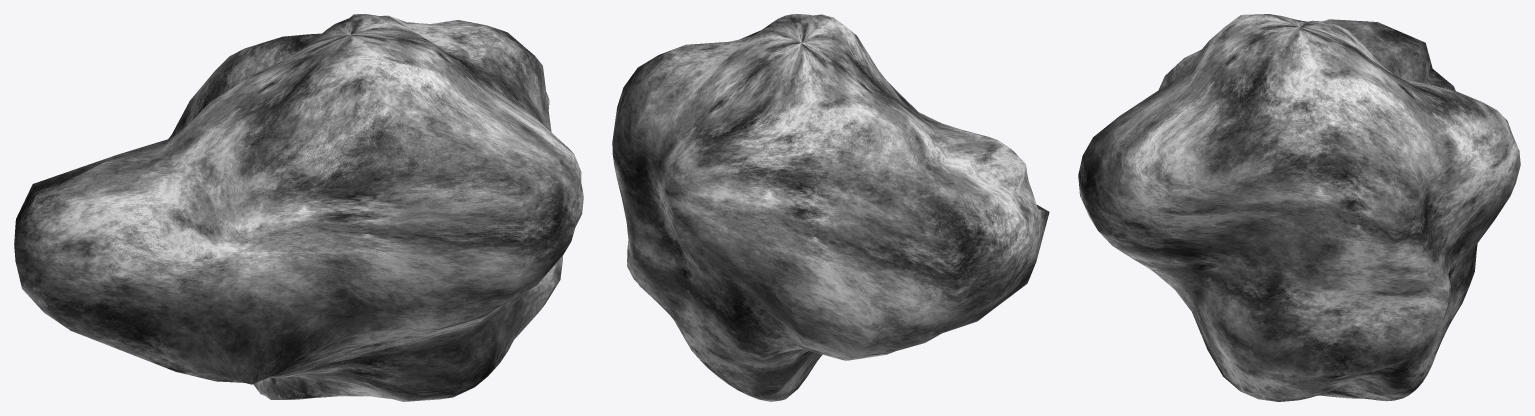
The model's file is Asteroid01d.fbx.
3 views of the same model, side by side, from view 1: azimuth 30°, elevation 25°; view 2: azimuth 150°, elevation 25°; view 3: azimuth 270°, elevation 25° (orthographic). The views are drawn at different scales.
Visible parts, largest first — view 1: Asteroid01d; view 2: Asteroid01d; view 3: Asteroid01d.
Part boxes in pixels (box(x1,y1,x2,y2)): Asteroid01d: box(14, 14, 583, 401); Asteroid01d: box(612, 14, 1049, 401); Asteroid01d: box(1078, 14, 1520, 401).
Bounding box in the file's own units: 1760 × 1366 × 1478.
